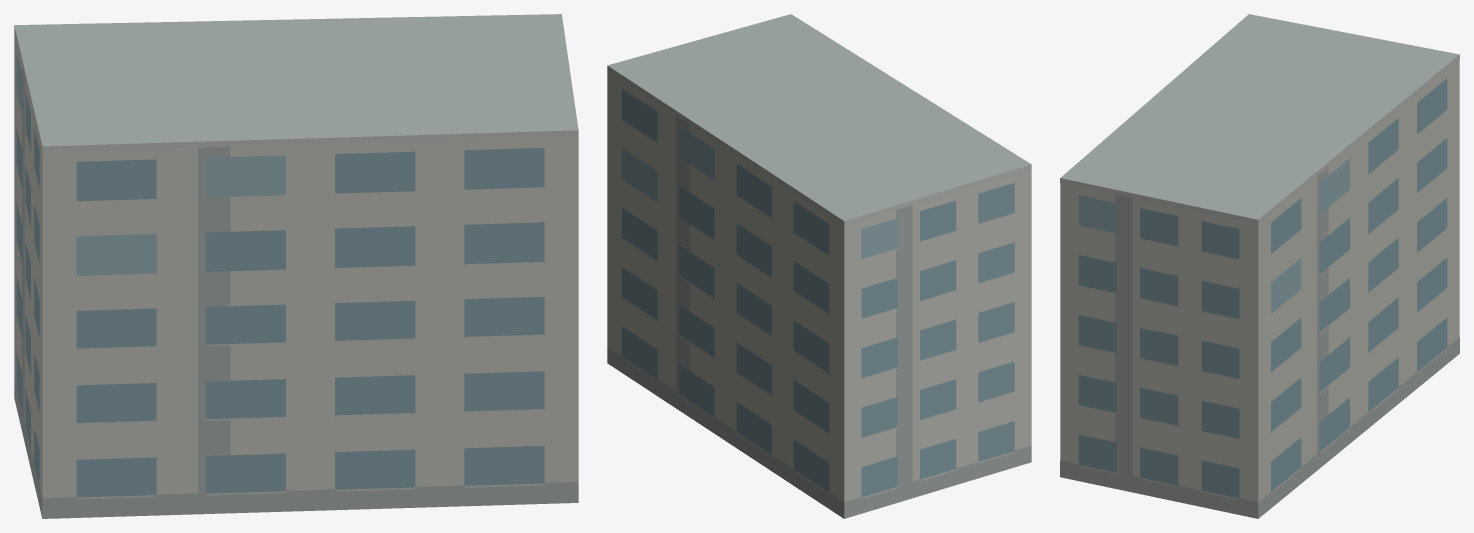
The model's file is survey-upis-32550870.glb.
3 renders of one model, left to right at view 1: azimuth 30°, elevation 25°; view 2: azimuth 150°, elevation 25°; view 3: azimuth 270°, elevation 25°, orthographic. The views are drawn at different scales.
Parts seen in each view (by area): view 1: survey-upis-32550870.tmp; view 2: survey-upis-32550870.tmp; view 3: survey-upis-32550870.tmp.
Boxes of the visible parts, x1=… form: survey-upis-32550870.tmp: x1=14, y1=14, x2=578, y2=518; survey-upis-32550870.tmp: x1=607, y1=14, x2=1031, y2=518; survey-upis-32550870.tmp: x1=1060, y1=14, x2=1459, y2=518.
Bounding box in the file's own units: 22.51 × 15.25 × 18.48.
